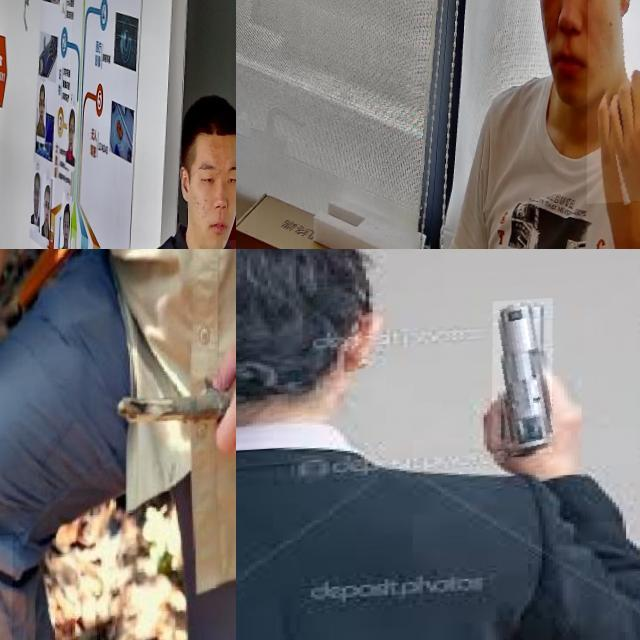-: (0, 537, 87, 640)
gun-knife-thesis - v11 Yolov5 augmented: (587, 0, 640, 209), (492, 304, 553, 461)
